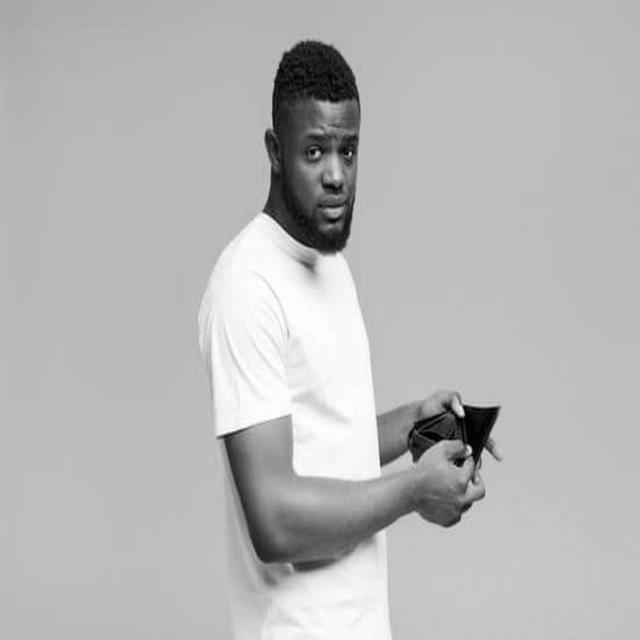Sadness: (289, 99, 358, 242)
